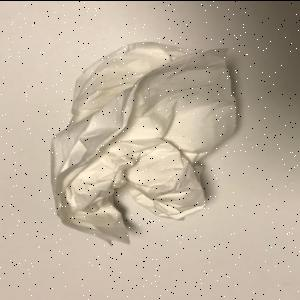Trash: (51, 42, 239, 247)
